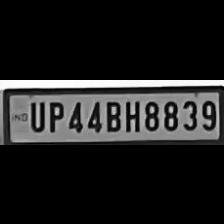3: (180, 96, 198, 130)
4: (64, 96, 84, 132), (83, 96, 101, 132)
8: (141, 96, 159, 132), (160, 96, 178, 132)
9: (198, 96, 216, 130)
B: (102, 96, 122, 132)
H: (123, 96, 141, 132)
P: (44, 97, 64, 132)
U: (26, 98, 44, 132)
